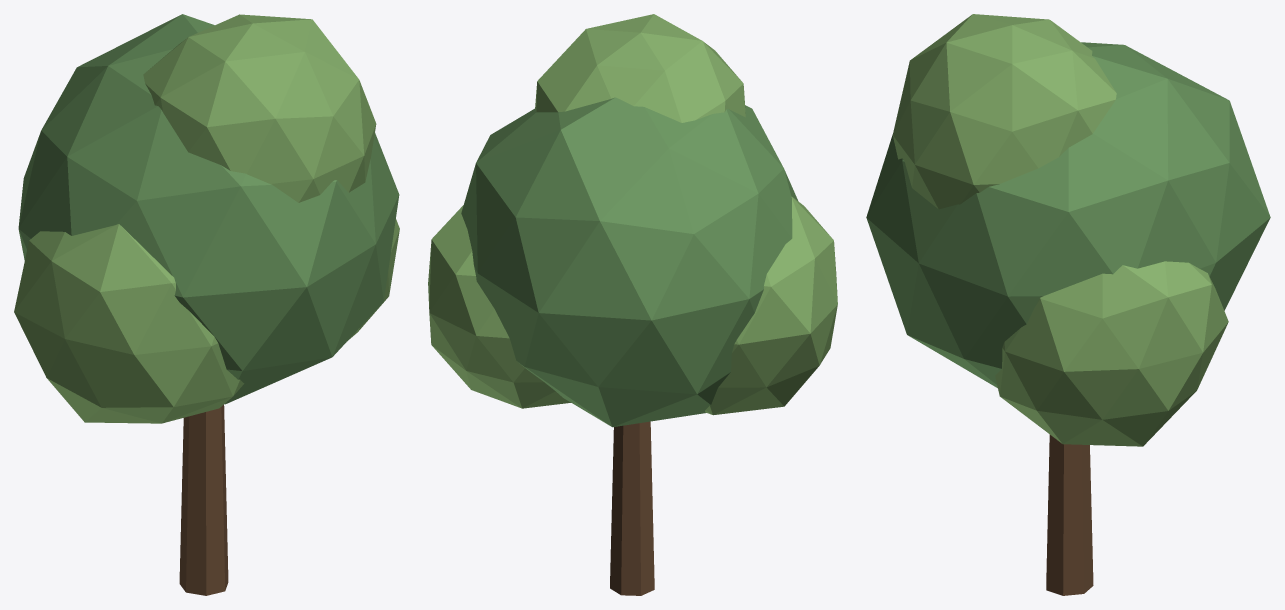
The model's file is tree_round.glb.
The picture shows the model from 3 angles, left to right: view 1: azimuth 30°, elevation 25°; view 2: azimuth 150°, elevation 25°; view 3: azimuth 270°, elevation 25°; orthographic projection. The views are drawn at different scales.
Visible parts, largest first — view 1: tree_round; view 2: tree_round; view 3: tree_round.
Part boxes in pixels (left/top/right/bottom): tree_round: left=14, top=14, right=399, bottom=595; tree_round: left=428, top=14, right=837, bottom=595; tree_round: left=866, top=14, right=1270, bottom=595.
Bounding box in the file's own units: 3.89 × 5.57 × 3.58.
